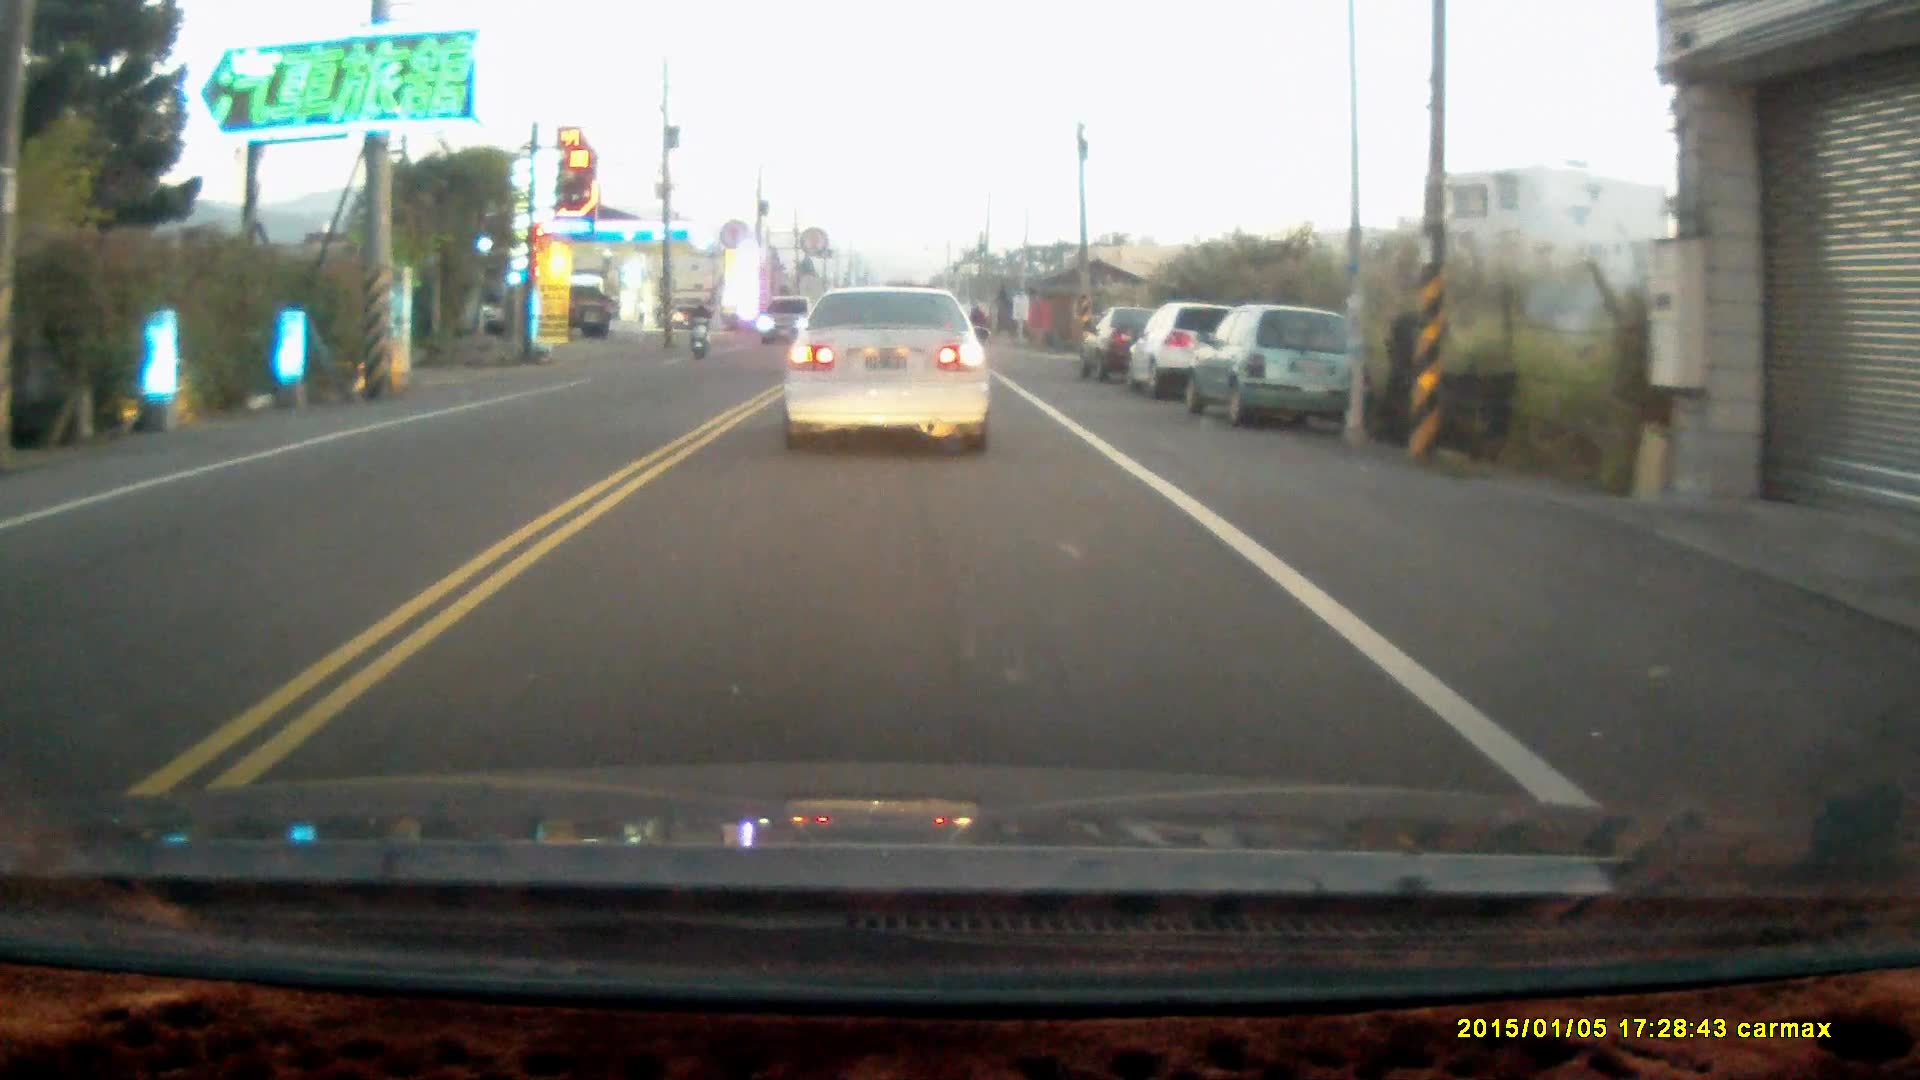rider: (686, 297, 712, 360)
vehicle: (783, 283, 995, 454), (1181, 305, 1370, 431), (1133, 304, 1261, 406), (1086, 306, 1182, 377), (759, 295, 824, 349)
